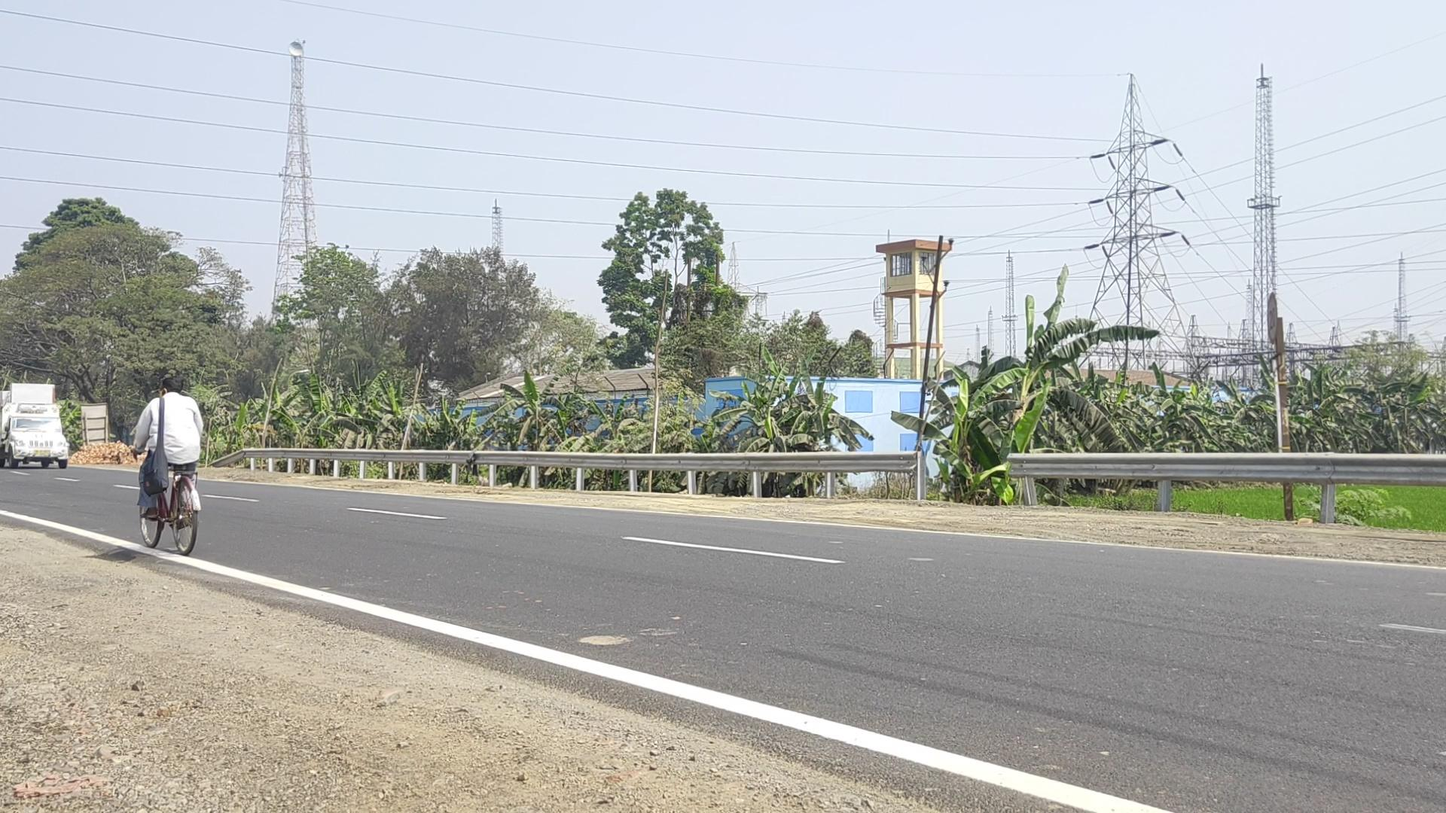bike: (131, 376, 203, 556)
van: (1, 382, 69, 470)
